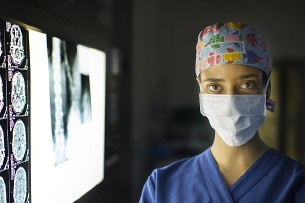Mask: (199, 72, 267, 140)
